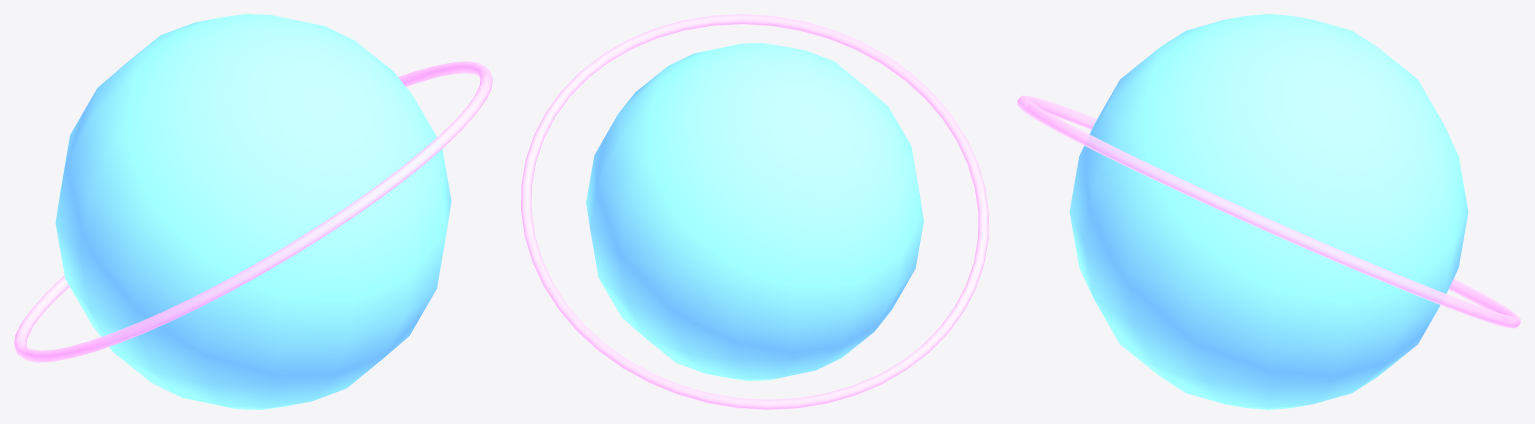
The model's file is life-map-memory-star-v1.candidate.glb.
The picture shows the model from 3 angles, left to right: view 1: azimuth 30°, elevation 25°; view 2: azimuth 150°, elevation 25°; view 3: azimuth 270°, elevation 25°; orthographic projection. The views are drawn at different scales.
Parts seen in each view (by area): view 1: memory-star-aura, memory-star-orbit; view 2: memory-star-aura, memory-star-orbit; view 3: memory-star-aura, memory-star-orbit.
Boxes of the visible parts, x1,y1,x2,y2 form: memory-star-aura: [55, 14, 451, 409]; memory-star-orbit: [14, 61, 492, 362]; memory-star-aura: [586, 43, 923, 380]; memory-star-orbit: [521, 14, 988, 409]; memory-star-aura: [1069, 14, 1468, 409]; memory-star-orbit: [1017, 95, 1520, 328].
Size of the model in its own units: 2.08 by 1.6 by 2.02.
